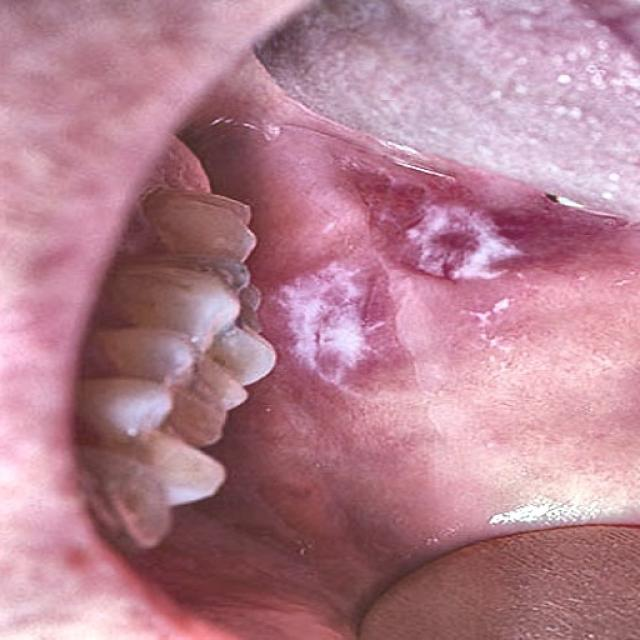leukoplakia-detection: (342, 156, 631, 283), (262, 253, 376, 380)
processing_area: (134, 0, 639, 639)
